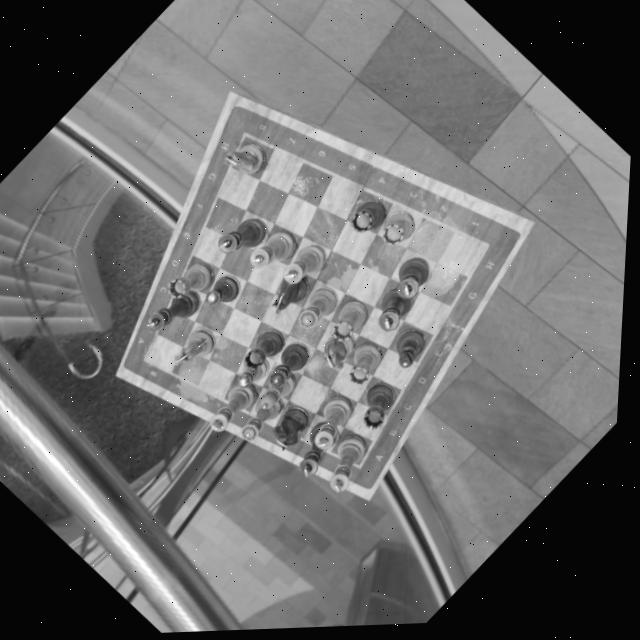chessboard: (150, 136, 492, 471)
